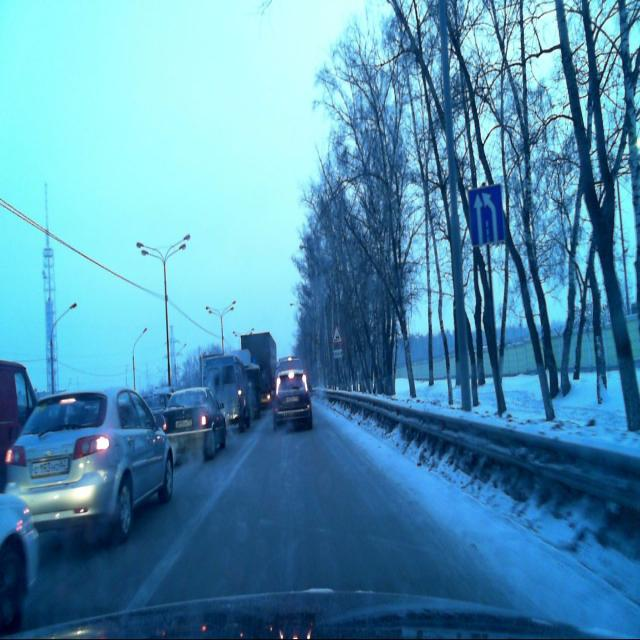road sign: (487, 244, 504, 419), (468, 184, 505, 246), (332, 324, 344, 344), (336, 360, 342, 391), (332, 350, 342, 360)
